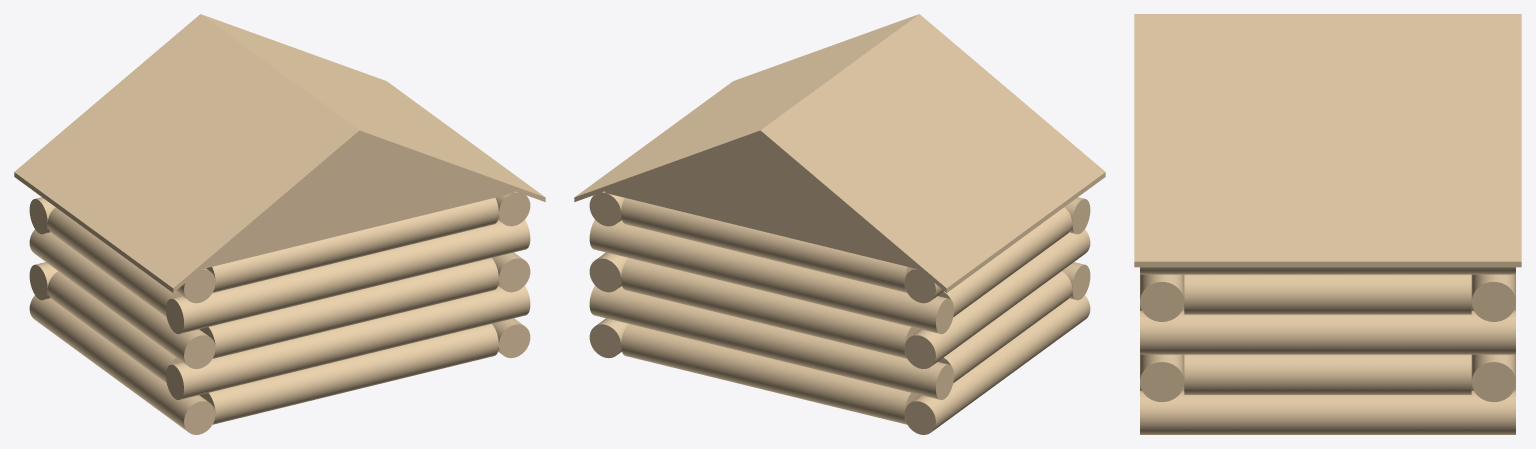
The model's file is log_cabin.glb.
3 renders of one model, left to right at view 1: azimuth 30°, elevation 25°; view 2: azimuth 150°, elevation 25°; view 3: azimuth 270°, elevation 25°, orthographic. The views are drawn at different scales.
Visible parts, largest first — view 1: roof, gable_s, log_2_s, log_4_s, log_3_s, log_1_s, log_5_s, log_3_w, log_1_w, log_2_w, log_4_w, log_3_e (+5 smaller); view 2: roof, gable_n, log_2_n, log_4_n, log_3_n, log_1_n, log_5_n, log_3_w, log_1_w, log_2_w, log_4_w, log_3_e (+5 smaller); view 3: roof, log_3_e, log_1_e, log_2_e, log_4_e, log_5_e, log_2_s, log_2_n, log_4_s, log_4_n.
Boxes of the visible parts, x1,y1,x2,y2 form: roof: [14, 14, 545, 292]; gable_s: [202, 135, 514, 269]; log_2_s: [166, 285, 530, 399]; log_4_s: [166, 220, 530, 334]; log_3_s: [199, 258, 498, 358]; log_1_s: [199, 324, 498, 424]; log_5_s: [206, 198, 498, 292]; log_3_w: [29, 229, 215, 368]; log_1_w: [29, 295, 215, 434]; log_2_w: [47, 271, 181, 382]; log_4_w: [47, 207, 181, 316]; log_3_e: [492, 252, 530, 292]; roof: [574, 14, 1105, 292]; gable_n: [605, 135, 917, 269]; log_2_n: [589, 285, 953, 399]; log_4_n: [589, 220, 953, 334]; log_3_n: [621, 258, 920, 358]; log_1_n: [621, 324, 920, 424]; log_5_n: [621, 198, 913, 292]; log_3_w: [904, 229, 1090, 368]; log_1_w: [904, 295, 1090, 434]; log_2_w: [938, 271, 1072, 382]; log_4_w: [938, 207, 1072, 316]; log_3_e: [589, 252, 627, 292]; roof: [1134, 14, 1521, 267]; log_3_e: [1140, 310, 1515, 354]; log_1_e: [1140, 390, 1515, 434]; log_2_e: [1184, 354, 1471, 394]; log_4_e: [1184, 274, 1471, 314]; log_5_e: [1140, 267, 1515, 274]; log_2_s: [1140, 354, 1184, 401]; log_2_n: [1471, 354, 1515, 401]; log_4_s: [1140, 274, 1184, 321]; log_4_n: [1471, 274, 1515, 321].
Size of the model in its own units: 5.68 by 3.9 by 4.2.
